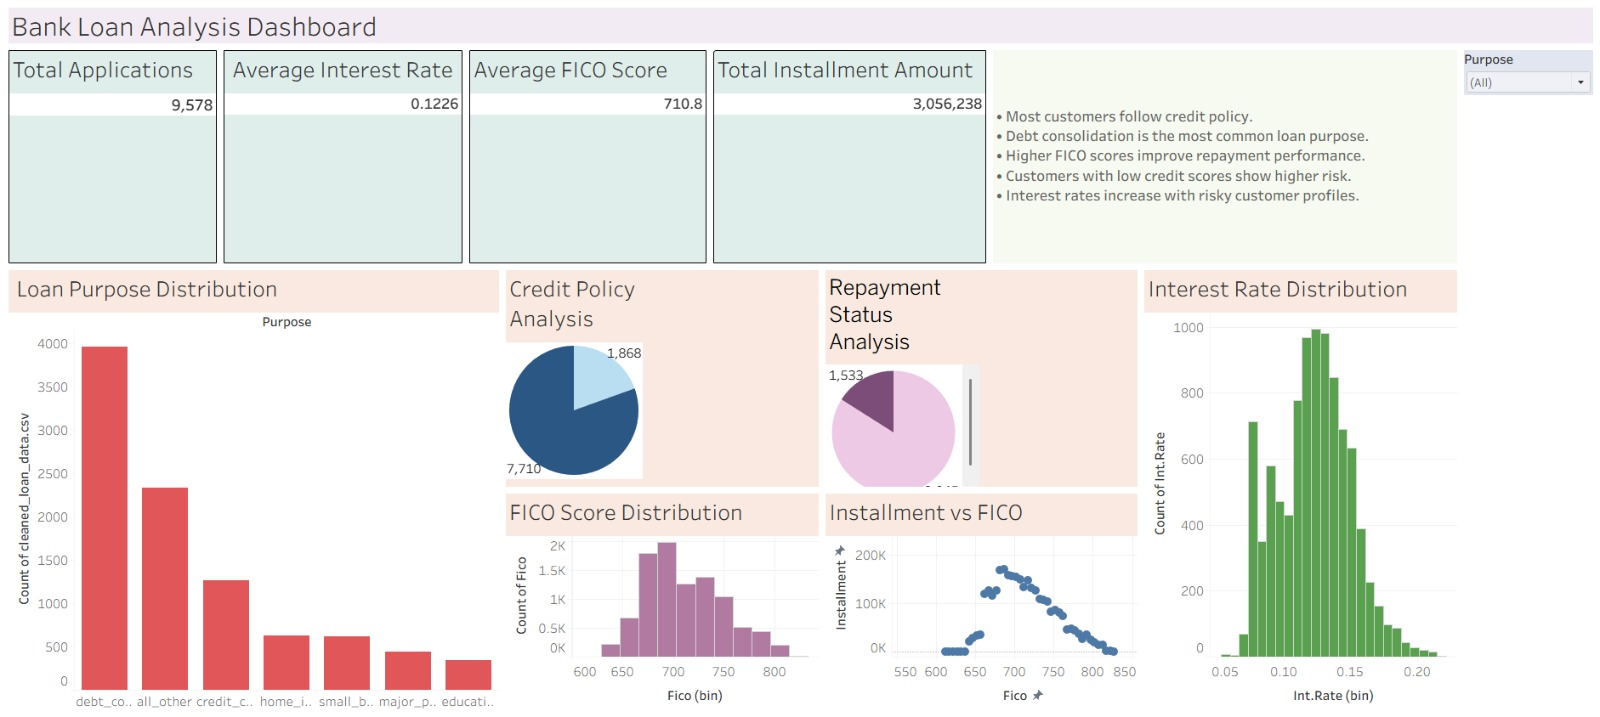

The page's visual inventory and layout, read from the dashboard file:
{"tool":"tableau","page":{"name":"Bank Loan Analysis Dashboard","canvas":[1000,1000],"units":"permille","ordinal":0},"visuals":[{"type":"title","box":[4.2,9.4,991.5,58.8]},{"type":"worksheet","title":"Total Applications","mark":"Automatic","box":[4.2,68.2,134.1,303.8]},{"type":"worksheet","title":" Average Interest Rate","mark":"Automatic","box":[138.3,68.2,153.1,303.8]},{"type":"worksheet","title":"Average FICO Score","mark":"Automatic","box":[291.4,68.2,152,303.8]},{"type":"worksheet","title":"Total Installment Amount","mark":"Automatic","box":[443.3,68.2,174.5,303.8]},{"type":"text","box":[617.8,68.2,293.2,303.8]},{"type":"filter","title":" Loan Purpose Distribution","param":"[federated.11dasls1h55w7c127tw3b1pky613].[none:purpose:nk]","box":[911,68.2,84.8,71.7]},{"type":"worksheet","title":" Loan Purpose Distribution","mark":"Automatic","rows":["cleaned_loan_data.csv_9FDFB4E4999C42128133D00159C1C300"],"cols":["purpose"],"box":[4.2,371.9,309.8,618.7]},{"type":"worksheet","title":"Credit Policy Analysis","mark":"Pie","box":[314,371.9,199,309.4]},{"type":"worksheet","title":" Repayment Status Analysis","mark":"Pie","box":[513,371.9,199,309.3]},{"type":"worksheet","title":"Interest Rate Distribution","mark":"Automatic","rows":["int.rate"],"cols":["Int.Rate (bin)"],"box":[712,371.9,199,618.7]},{"type":"worksheet","title":"FICO Score Distribution","mark":"Automatic","rows":["fico"],"cols":["Fico (bin)"],"box":[314,681.3,199,309.3]},{"type":"worksheet","title":"Installment vs FICO","mark":"Circle","rows":["installment"],"cols":["fico"],"box":[513,681.3,199,309.3]}]}

Visuals, with their boxes on the dashboard's canvas, which has no fixed pixel size, in thousandths of its width and height (x1, y1, x2, y2). These are canvas units, not pixel positions in the 1600x717 screenshot, which may show the page scaled, cropped or inside an application window:
title: box(4, 9, 996, 68)
"Total Applications" worksheet: box(4, 68, 138, 372)
" Average Interest Rate" worksheet: box(138, 68, 291, 372)
"Average FICO Score" worksheet: box(291, 68, 443, 372)
"Total Installment Amount" worksheet: box(443, 68, 618, 372)
text: box(618, 68, 911, 372)
" Loan Purpose Distribution" filter: box(911, 68, 996, 140)
" Loan Purpose Distribution" worksheet: box(4, 372, 314, 991)
"Credit Policy Analysis" worksheet (Pie marks): box(314, 372, 513, 681)
" Repayment Status Analysis" worksheet (Pie marks): box(513, 372, 712, 681)
"Interest Rate Distribution" worksheet: box(712, 372, 911, 991)
"FICO Score Distribution" worksheet: box(314, 681, 513, 991)
"Installment vs FICO" worksheet (Circle marks): box(513, 681, 712, 991)
